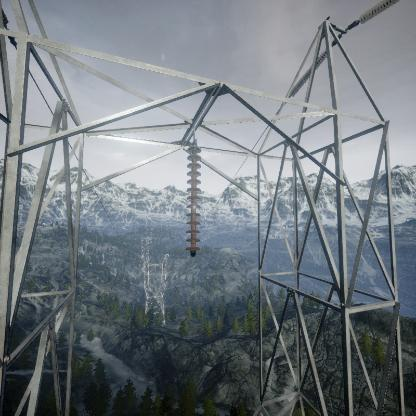insulator: (183, 142, 207, 257), (288, 48, 332, 100), (359, 0, 398, 24)
tower: (139, 253, 171, 326)
